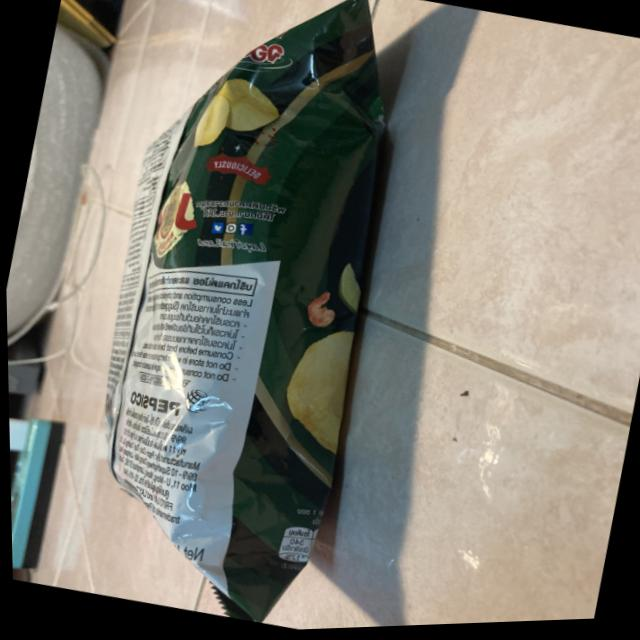Laygreen: (27, 0, 466, 639)
